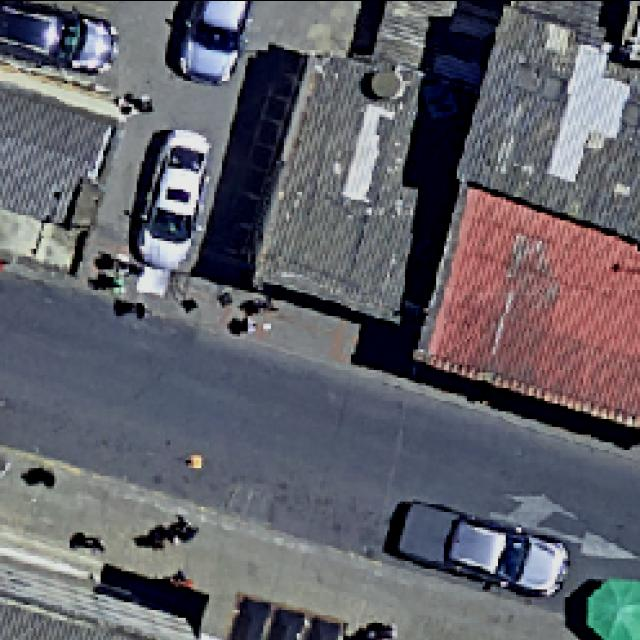vendedor_ambulante: (583, 578, 640, 640)
